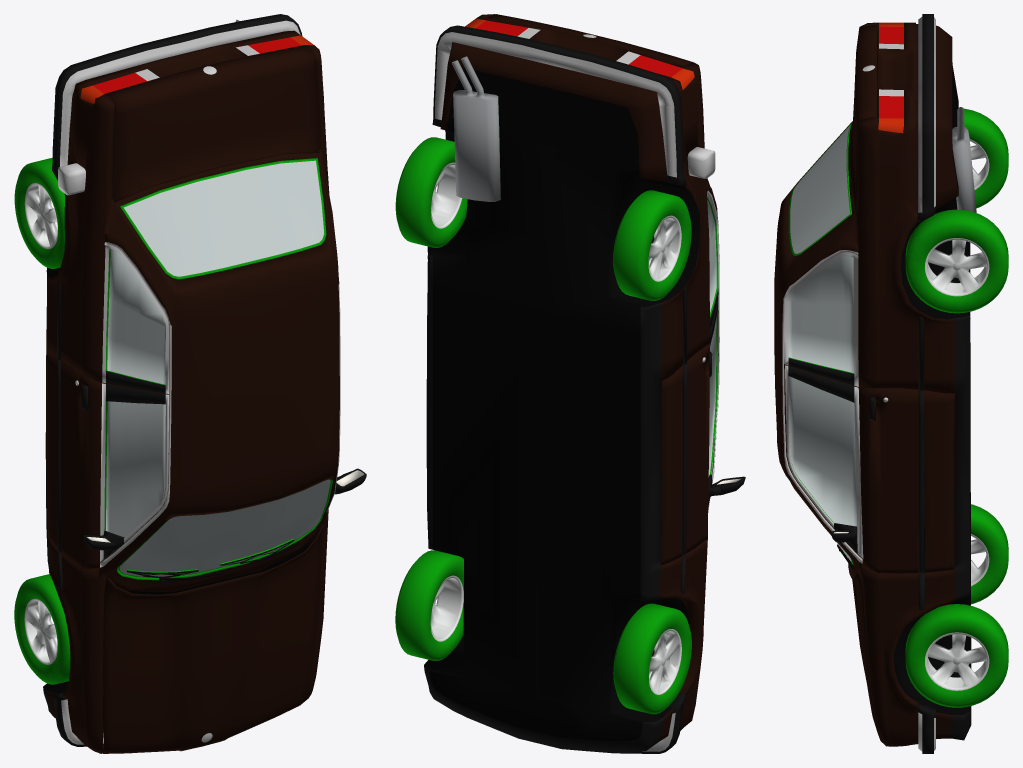
The model's file is car.obj.
3 views of the same model, side by side, from view 1: azimuth 30°, elevation 25°; view 2: azimuth 150°, elevation 25°; view 3: azimuth 270°, elevation 25° (orthographic). The views are drawn at different scales.
Visible parts, largest first — view 1: obj1, obj2, obj8, obj7, obj9, obj4; view 2: obj1, obj2, obj8, obj11, obj4, obj9; view 3: obj1, obj2, obj8, obj11, obj4.
Part boxes in pixels (left/top/right/bottom): obj1: left=43, top=30, right=366, bottom=753; obj2: left=14, top=157, right=70, bottom=684; obj8: left=52, top=14, right=302, bottom=180; obj7: left=127, top=538, right=300, bottom=580; obj9: left=58, top=163, right=85, bottom=195; obj4: left=53, top=692, right=86, bottom=746; obj1: left=424, top=14, right=745, bottom=753; obj2: left=395, top=137, right=691, bottom=714; obj8: left=432, top=25, right=686, bottom=186; obj11: left=451, top=56, right=500, bottom=201; obj4: left=620, top=693, right=685, bottom=753; obj9: left=687, top=147, right=715, bottom=178; obj1: left=774, top=22, right=971, bottom=746; obj2: left=905, top=108, right=1008, bottom=707; obj8: left=918, top=14, right=935, bottom=222; obj11: left=952, top=107, right=976, bottom=212; obj4: left=918, top=703, right=935, bottom=753.
Bounding box in the file's own units: 1.79 × 4.32 × 1.38.
